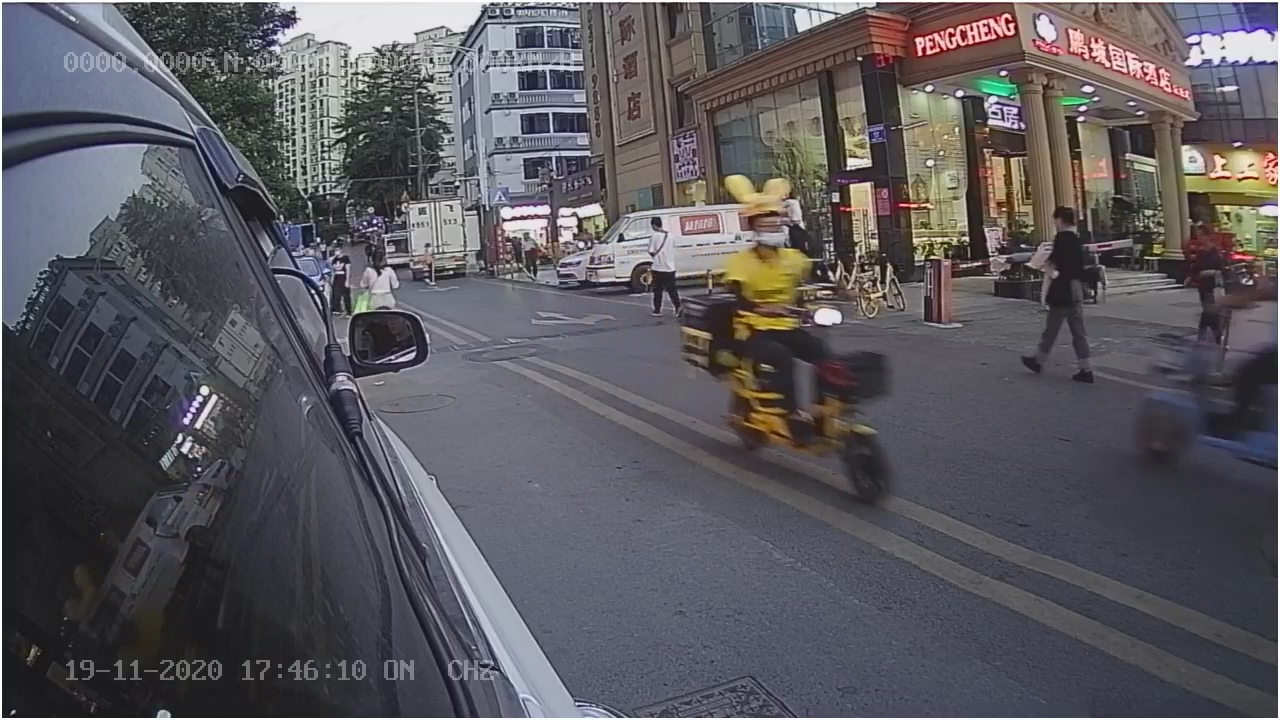person: (1023, 207, 1114, 384)
